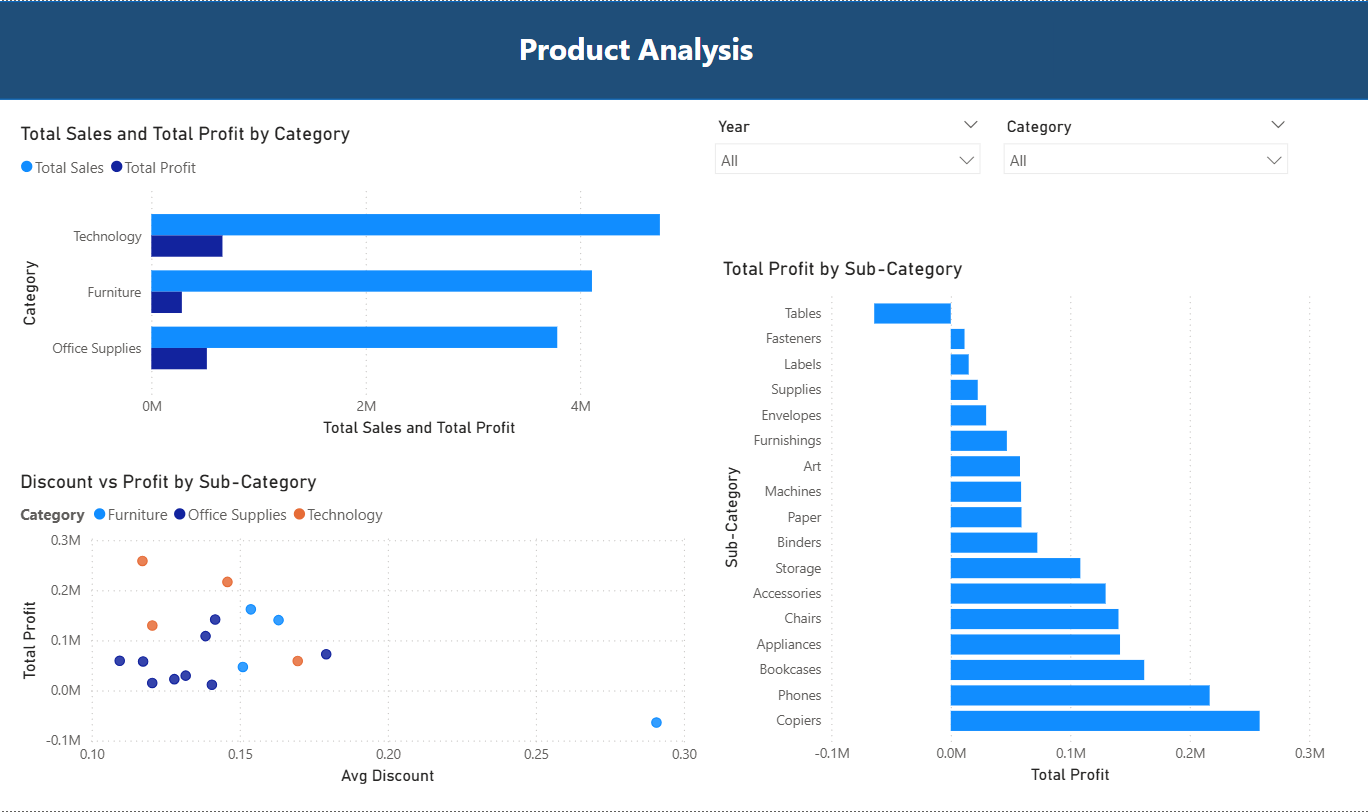

The dashboard page shown, as its layout file describes it:
{"tool":"powerbi","page":{"name":"Product Analysis","canvas":[1280,720],"ordinal":1},"visuals":[{"type":"shape","box":[0,0,1224.4,87.8],"z":0},{"type":"textbox","box":[458.9,18.9,480,50],"z":1000},{"type":"clusteredBarChart","title":"Total Sales and Total Profit by Category","fields":{"Category":["superstore_cleaned.Category"],"Y":["DateTable.Total Sales","DateTable.Total Profit"]},"box":[15.6,107.8,612.2,284.4],"z":2000},{"type":"clusteredBarChart","title":"Total Profit by Sub-Category","fields":{"Category":["superstore_cleaned.Sub-Category"],"Y":["DateTable.Total Profit"]},"box":[640,227.8,545.6,473.3],"z":3000},{"type":"scatterChart","title":"Discount vs Profit by Sub-Category","fields":{"X":["DateTable.Avg Discount"],"Y":["DateTable.Total Profit"],"Category":["superstore_cleaned.Sub-Category"],"Series":["superstore_cleaned.Category"]},"box":[15.6,416.7,612.2,284.4],"z":4000},{"type":"slicer","fields":{"Values":["DateTable.Year"]},"box":[627.8,97.8,256.7,82.2],"z":5000},{"type":"slicer","fields":{"Values":["superstore_cleaned.Category"]},"box":[884.4,97.8,273.3,82.2],"z":6000}]}

Visuals, with their boxes on the page's 1280x720 design canvas (x1, y1, x2, y2). These are canvas units, not pixel positions in the 1368x812 screenshot, which may show the page scaled, cropped or inside an application window:
shape: [x1=0, y1=0, x2=1224, y2=88]
textbox: [x1=459, y1=19, x2=939, y2=69]
"Total Sales and Total Profit by Category" clusteredBarChart: [x1=16, y1=108, x2=628, y2=392]
"Total Profit by Sub-Category" clusteredBarChart: [x1=640, y1=228, x2=1186, y2=701]
"Discount vs Profit by Sub-Category" scatterChart: [x1=16, y1=417, x2=628, y2=701]
slicer - DateTable.Year: [x1=628, y1=98, x2=884, y2=180]
slicer - superstore_cleaned.Category: [x1=884, y1=98, x2=1158, y2=180]
